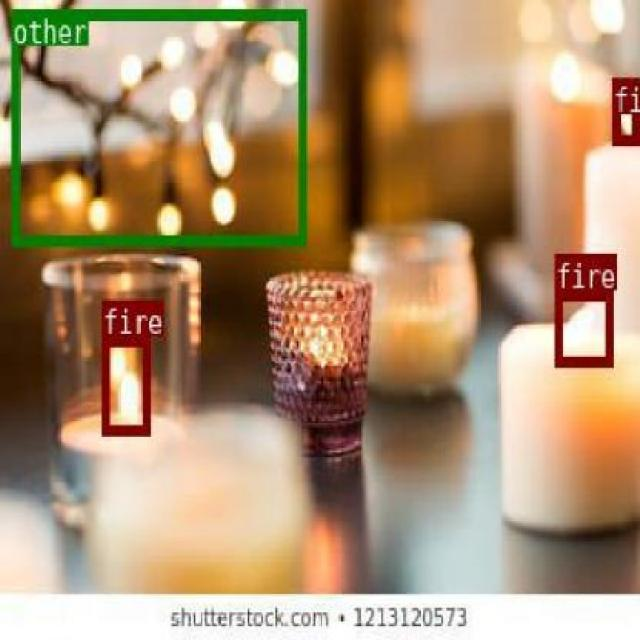fire: (100, 336, 148, 434), (554, 290, 612, 364), (611, 76, 637, 142)
